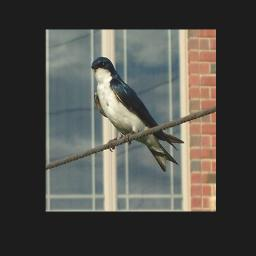Swallow: (90, 56, 185, 173)
